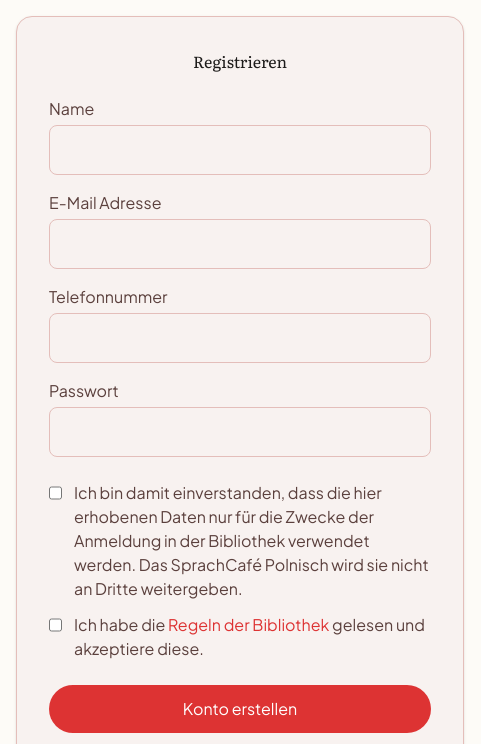
Register Component › shows error if password is too short
The image size is (481, 744).
Type "John Doe" into the field labelled "Name" at (240, 150), box [49,125,431,175]
Type "john@example.com" into the field labelled "E-Mail Adresse" at (240, 244), box [49,219,431,269]
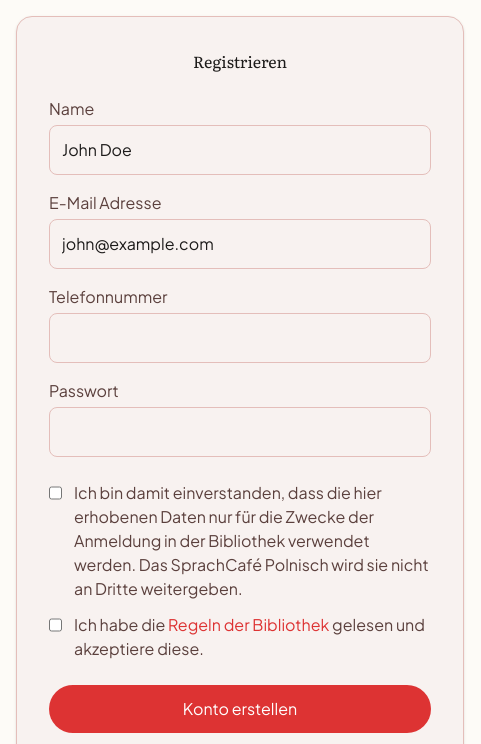
Type "123456789" into the field labelled "Telefonnummer" at (240, 338), box [49,313,431,363]
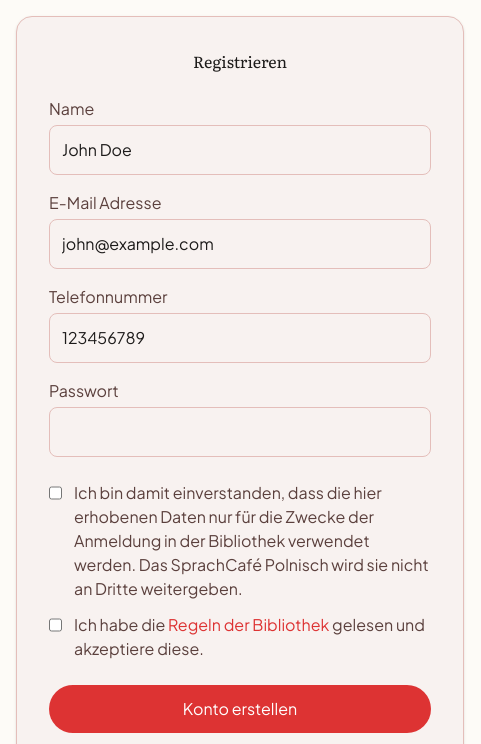
Type "short" into the password field labelled "Passwort" at (240, 432), box [49,407,431,457]
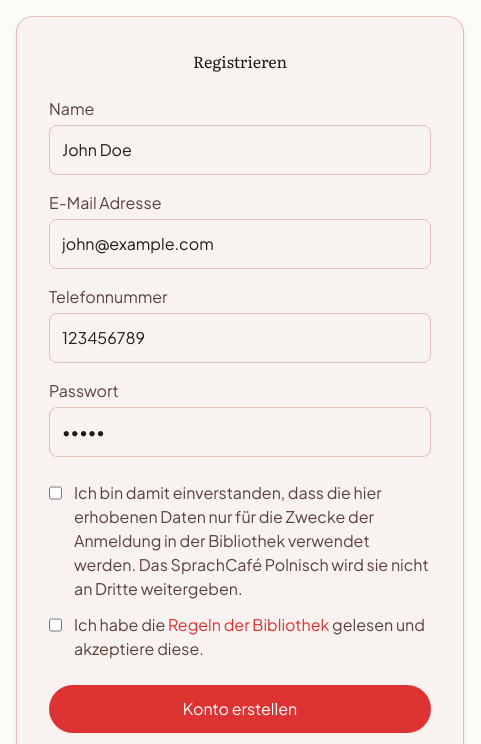
Click the 1st checkbox at (56, 493), box [49,485,62,501]
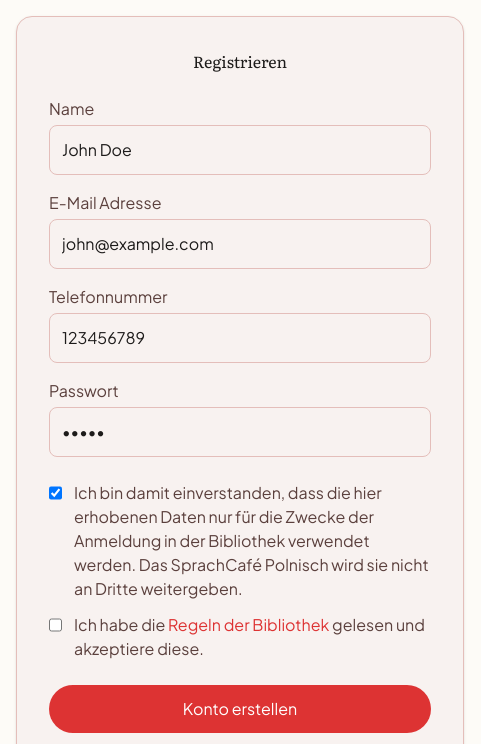
Click the 2nd checkbox at (56, 625), box [49,617,62,633]
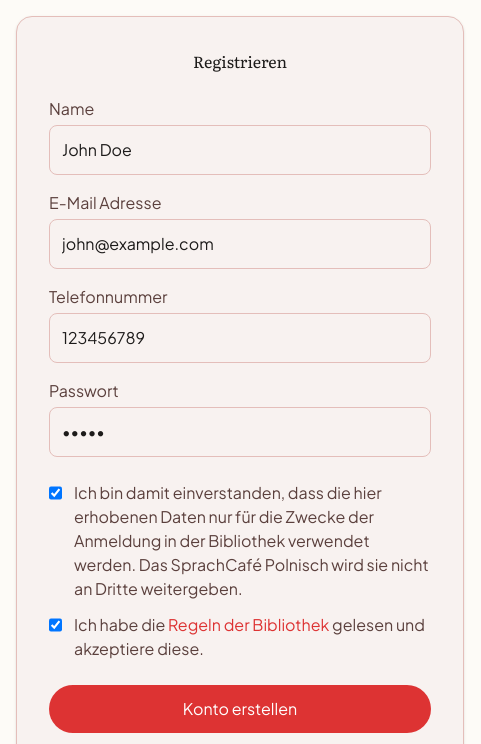
Click the button "Konto erstellen" at (240, 709), box [49,685,431,733]
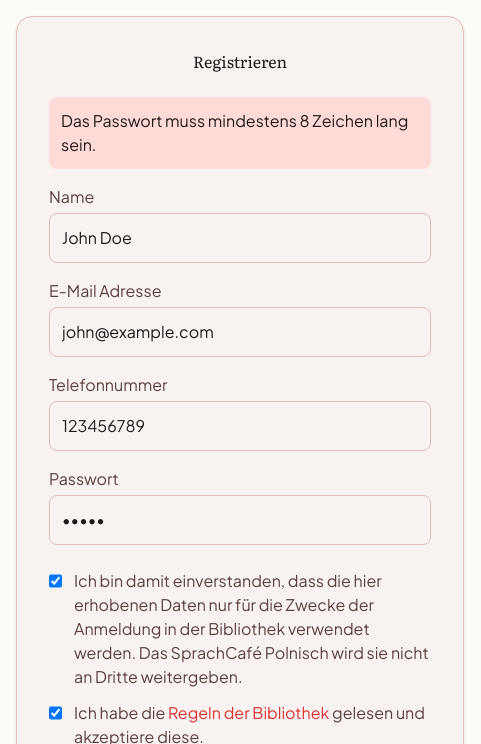
Expected: the text "Das Passwort muss mindestens 8 Zeichen lang sein." is shown, [49,97,431,169]
